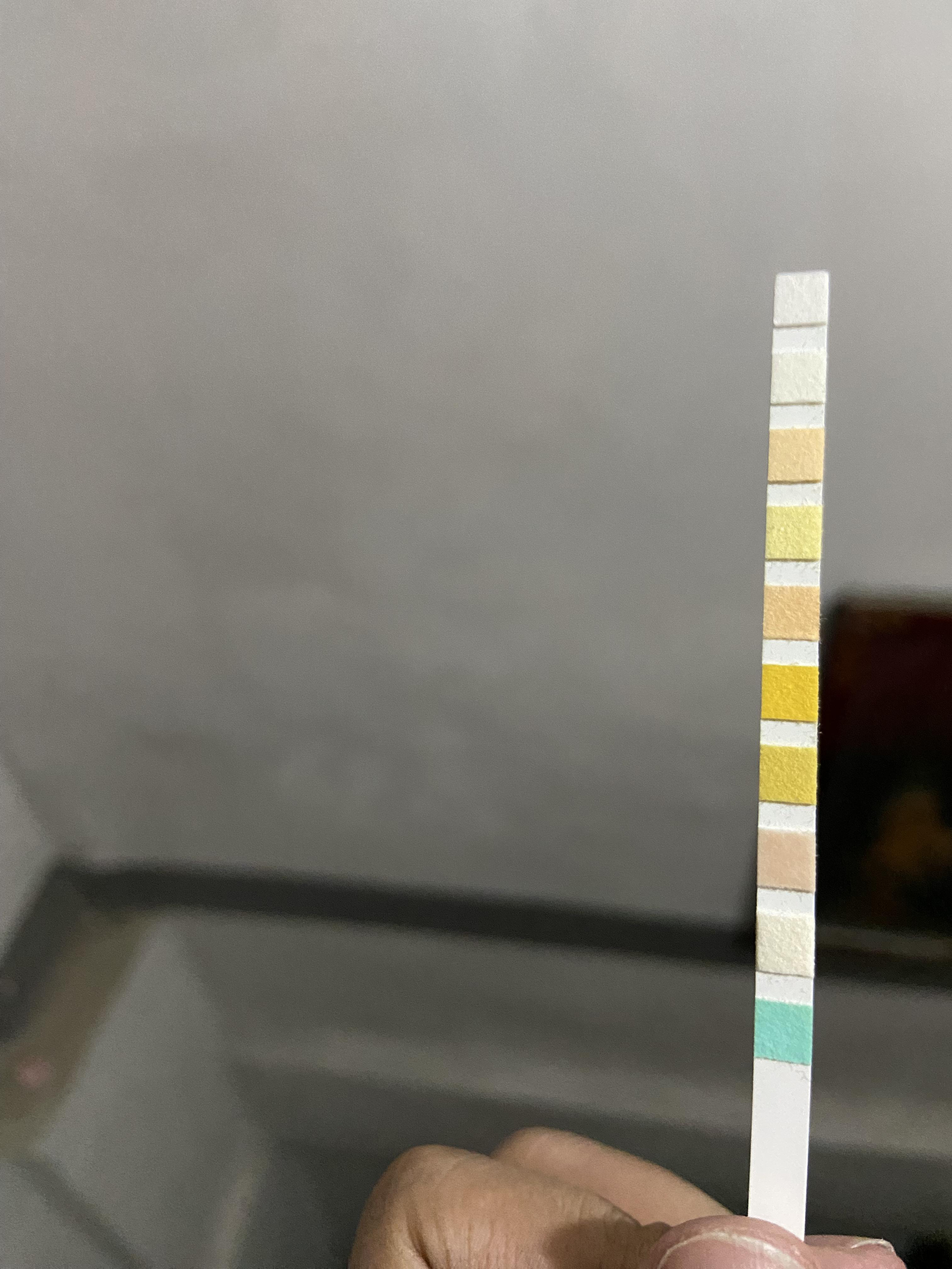Bilirubin: (757, 916, 814, 969)
Blood: (762, 667, 819, 718)
Glucose: (756, 1005, 811, 1059)
Ketone: (759, 833, 816, 886)
Leukocytes: (776, 276, 827, 323)
Nitrite: (773, 350, 824, 400)
Protein: (768, 510, 820, 556)
SpGravity: (760, 748, 816, 800)
Urobilinogen: (770, 431, 822, 482)
pH: (764, 588, 818, 638)
strip: (748, 269, 829, 1222)
